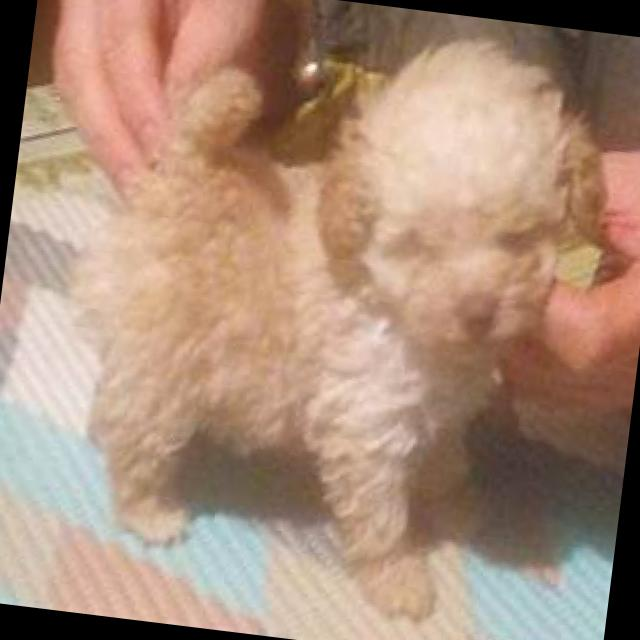animal: (31, 0, 633, 640)
